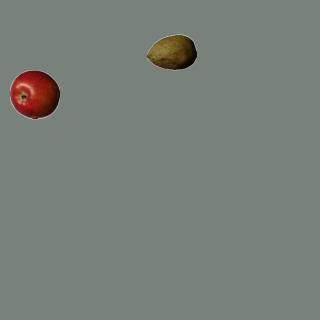Apple Braeburn: (9, 69, 59, 119)
Papaya: (146, 27, 196, 77)
